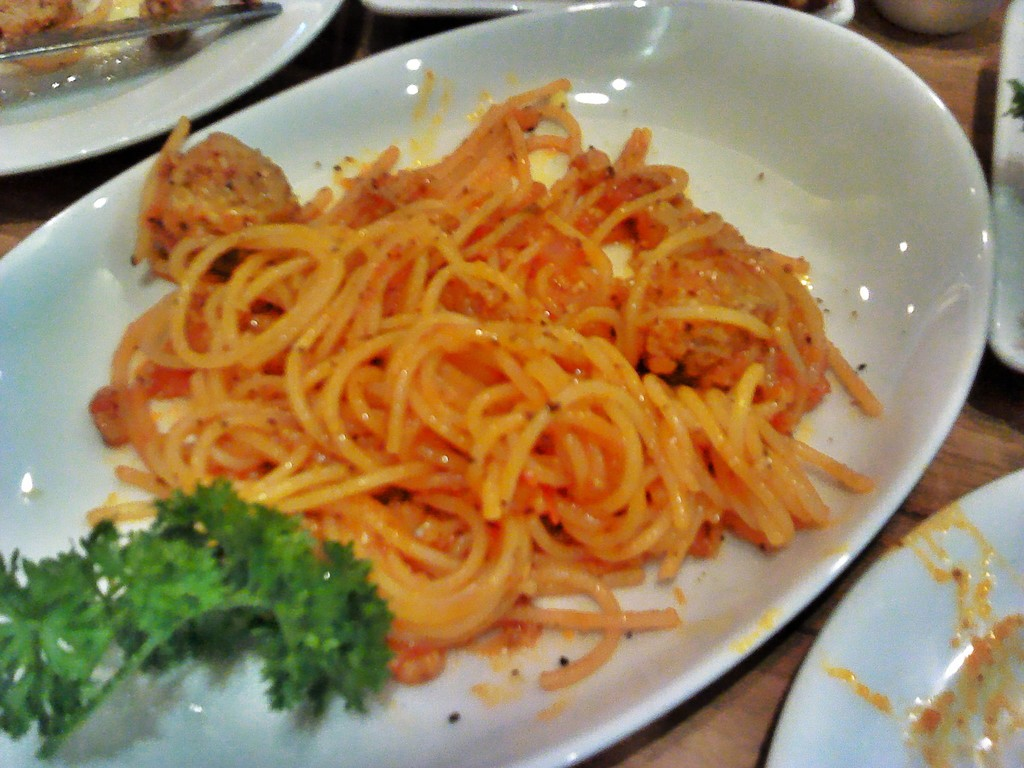pasta: (91, 93, 870, 705)
